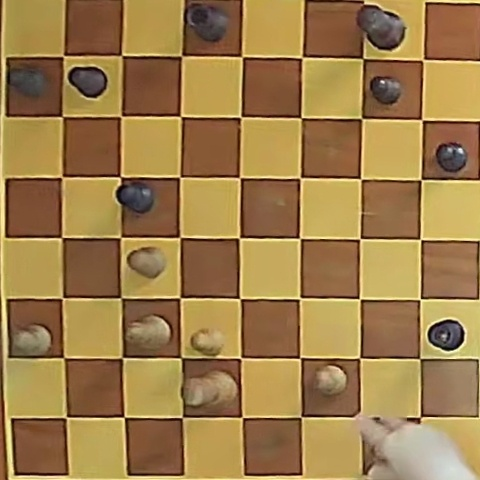black-king: (356, 5, 405, 50)
black-pawn: (116, 182, 154, 214), (68, 67, 107, 98), (8, 67, 46, 98), (370, 76, 402, 105), (436, 143, 467, 172)
black-rook: (186, 3, 229, 42), (427, 319, 464, 352)
white-bishop: (126, 315, 171, 349)
white-king: (182, 370, 236, 408)
white-pawn: (12, 324, 52, 356), (127, 246, 166, 278), (190, 328, 225, 356), (315, 365, 347, 395)
